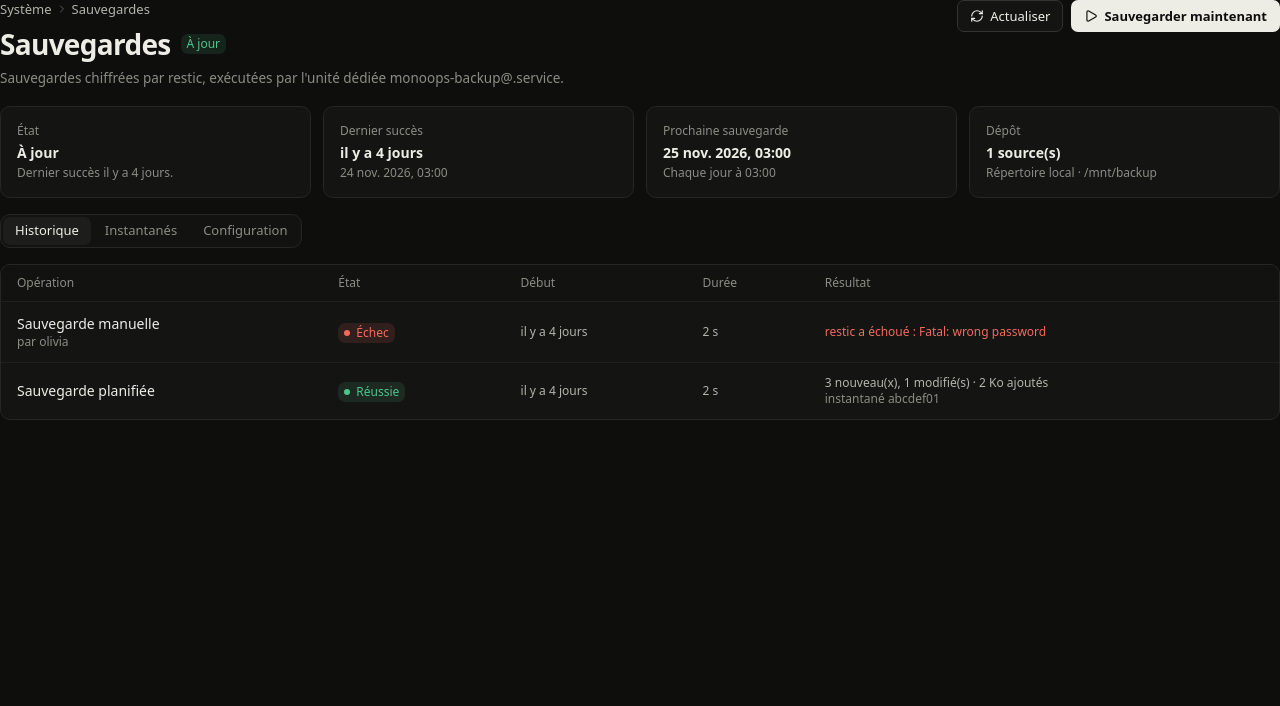
Scenario: BackupsPage › compares two snapshots, older first, and lists the changes
Click the button "Instantanés" at (141, 231), box x1=93 y1=217 x2=189 y2=245
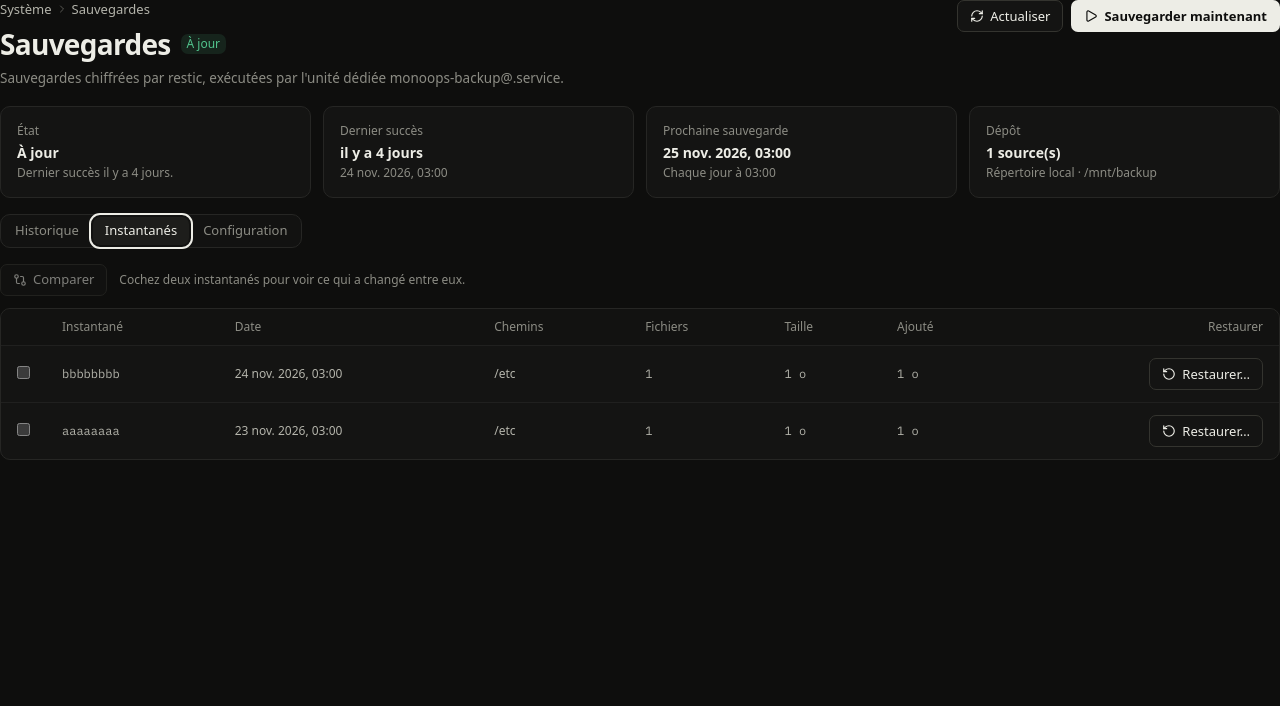
expect the button "Comparer" is disabled: met, box x1=0 y1=264 x2=107 y2=296
Click the checkbox named "Comparer bbbbbbbb" at (24, 372), box x1=17 y1=366 x2=30 y2=379
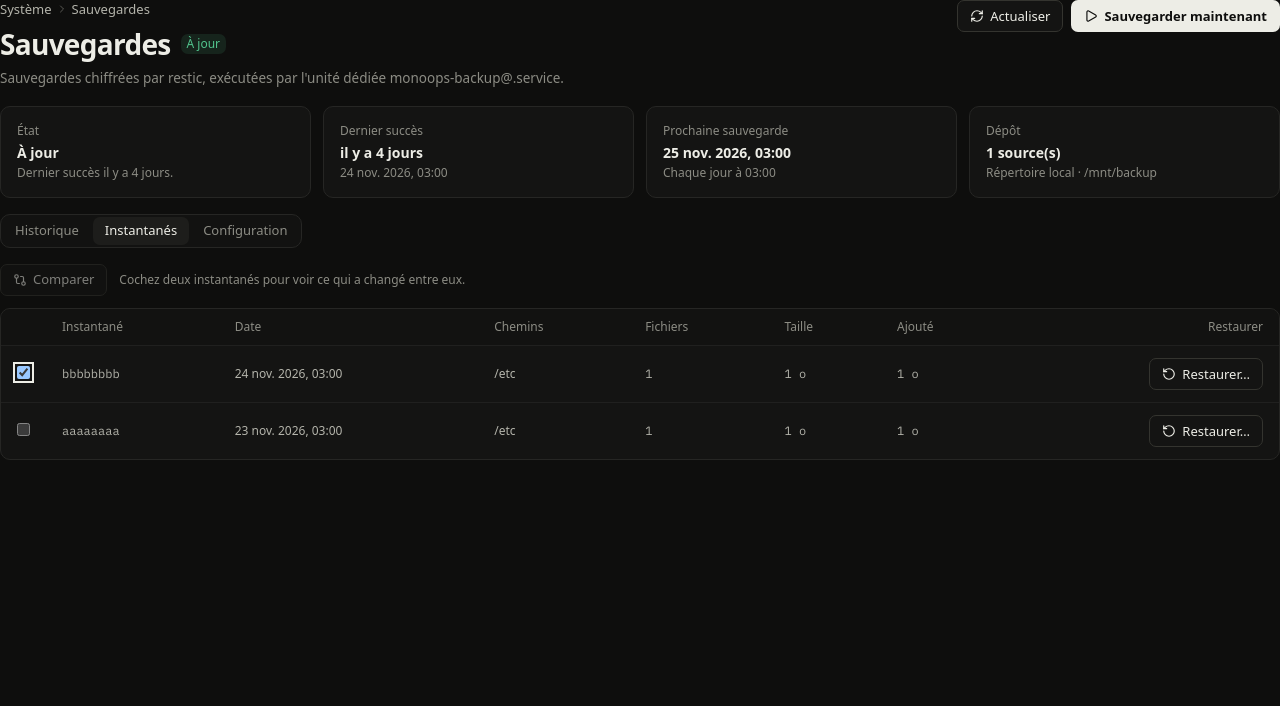
Click the checkbox named "Comparer aaaaaaaa" at (24, 429), box x1=17 y1=423 x2=30 y2=436
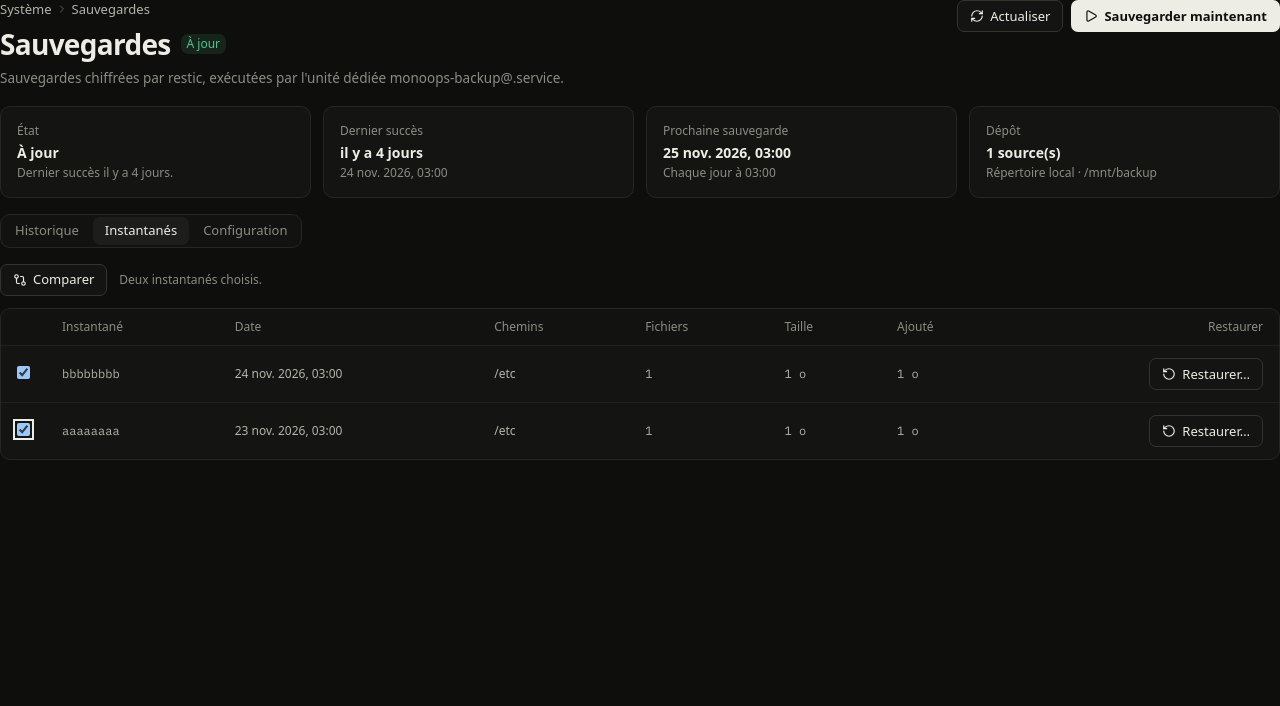
Click the button "Comparer" at (54, 280), box x1=0 y1=264 x2=107 y2=296
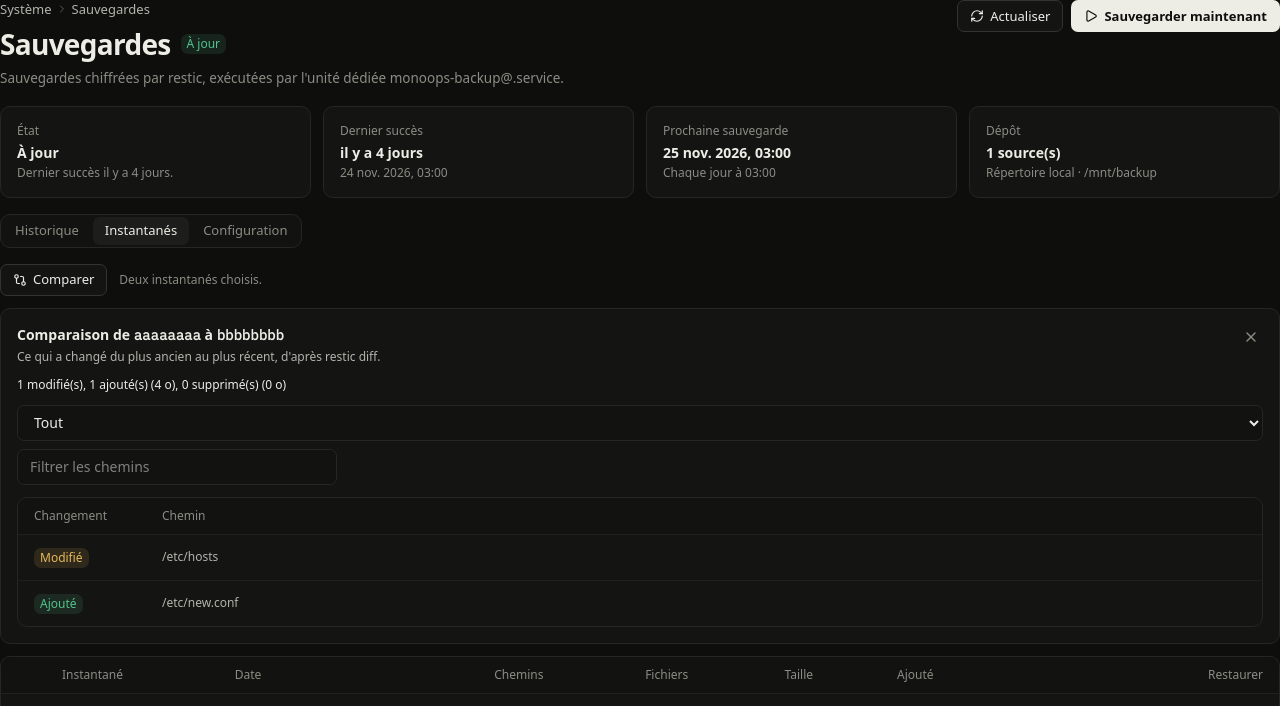
expect the text "/etc/new.conf" is shown: met, box x1=146 y1=580 x2=1262 y2=626
expect the text "1 modifié(s), 1 ajouté(s) (4 o), 0 supprimé(s) (0 o)" is shown: met, box x1=17 y1=376 x2=286 y2=393
Select "Modifiés" in the dropdown named "Type de changement" at (640, 423), box x1=17 y1=405 x2=1263 y2=441
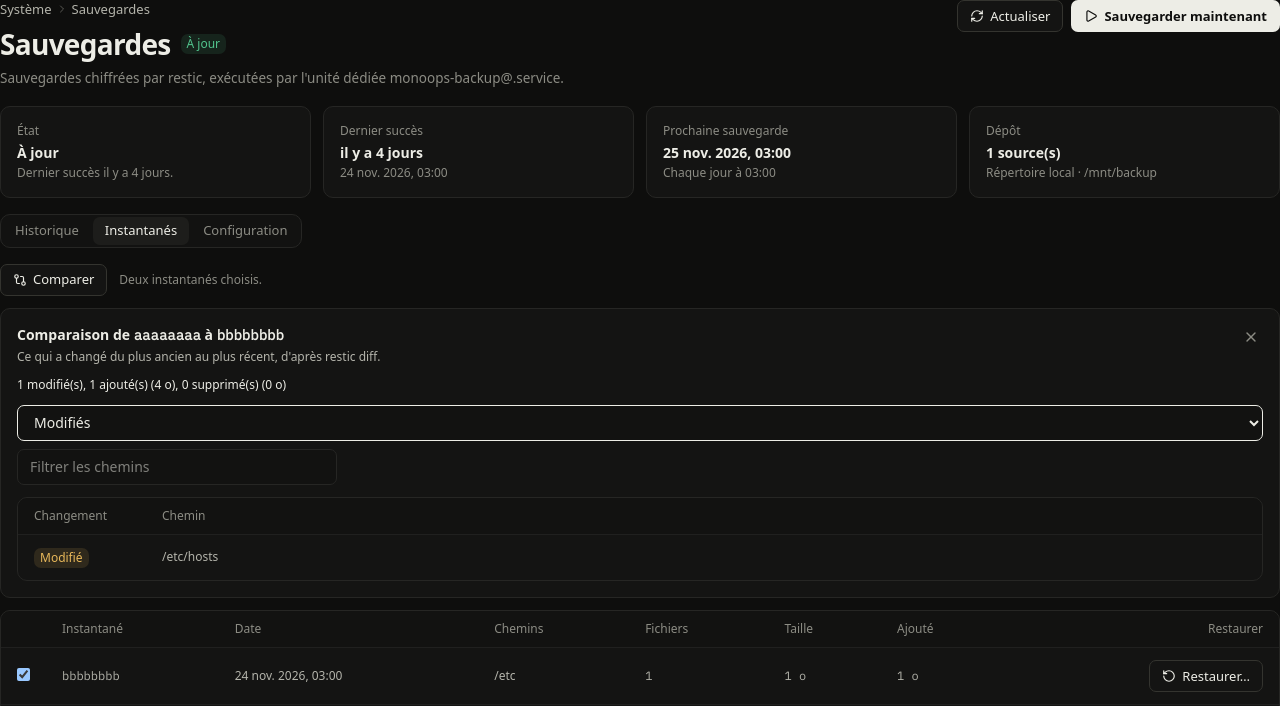
expect the text "/etc/hosts" is shown: met, box x1=146 y1=534 x2=1262 y2=580
expect the text "/etc/new.conf" is gone: met
